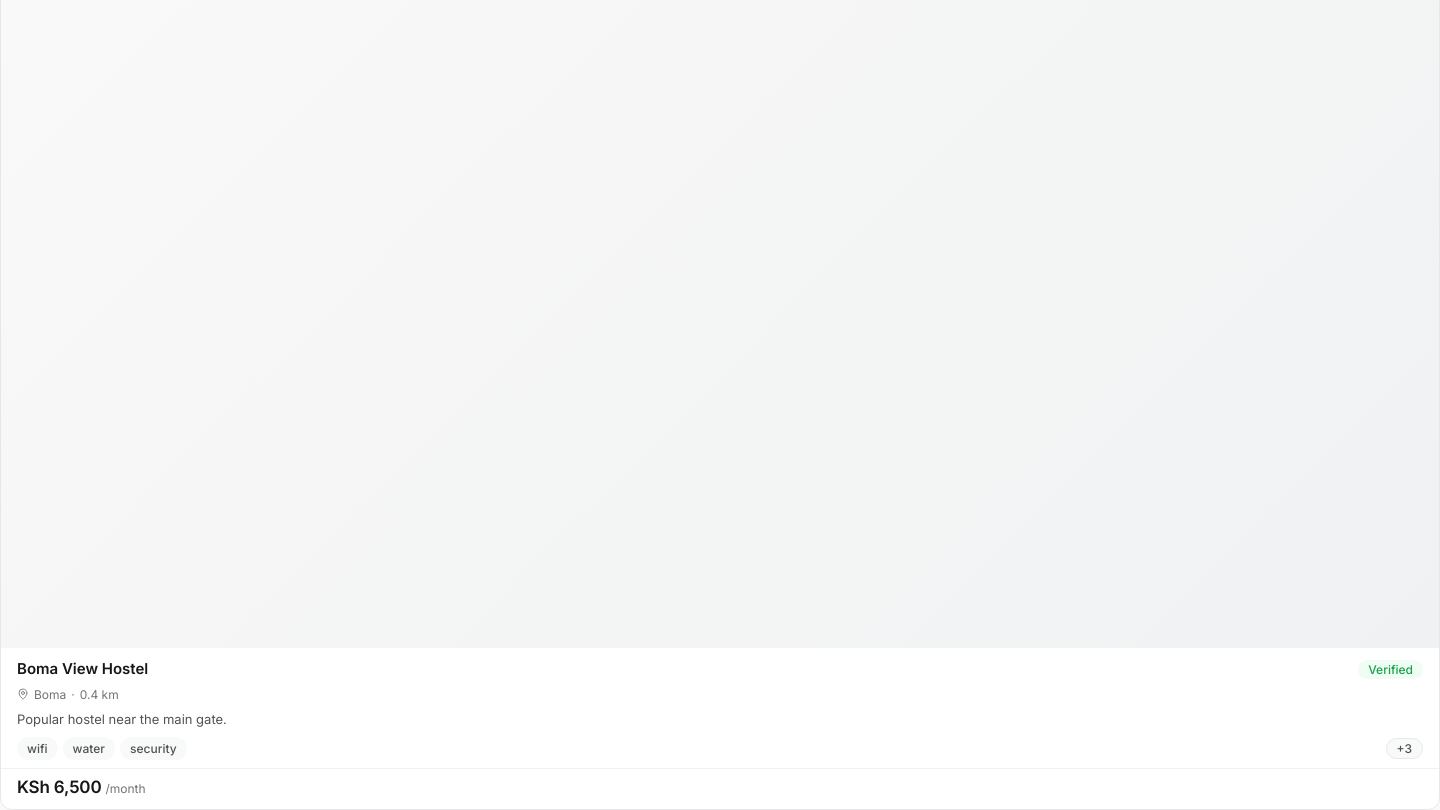
Scenario: HostelCard › collapses a long list of amenities and expands it on request
(page scrolled)
Expected: the text "wifi" is shown, x1=17 y1=737 x2=58 y2=760
Expected: the text "security" is shown, x1=120 y1=737 x2=187 y2=760
Click the button "+3". click: click(1404, 748)
box: x1=1386 y1=738 x2=1423 y2=759
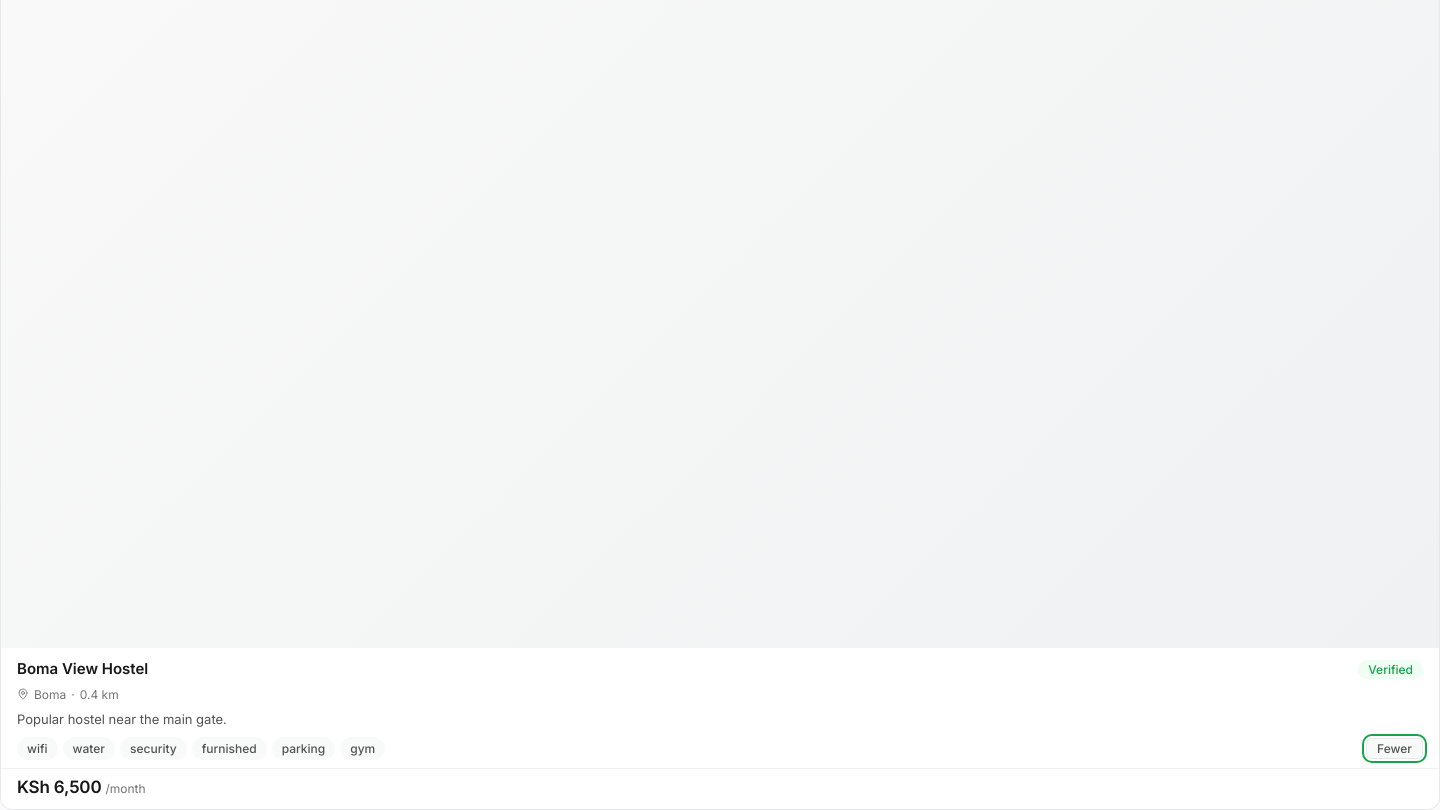
Expected: the text "gym" is shown, x1=340 y1=737 x2=385 y2=760
